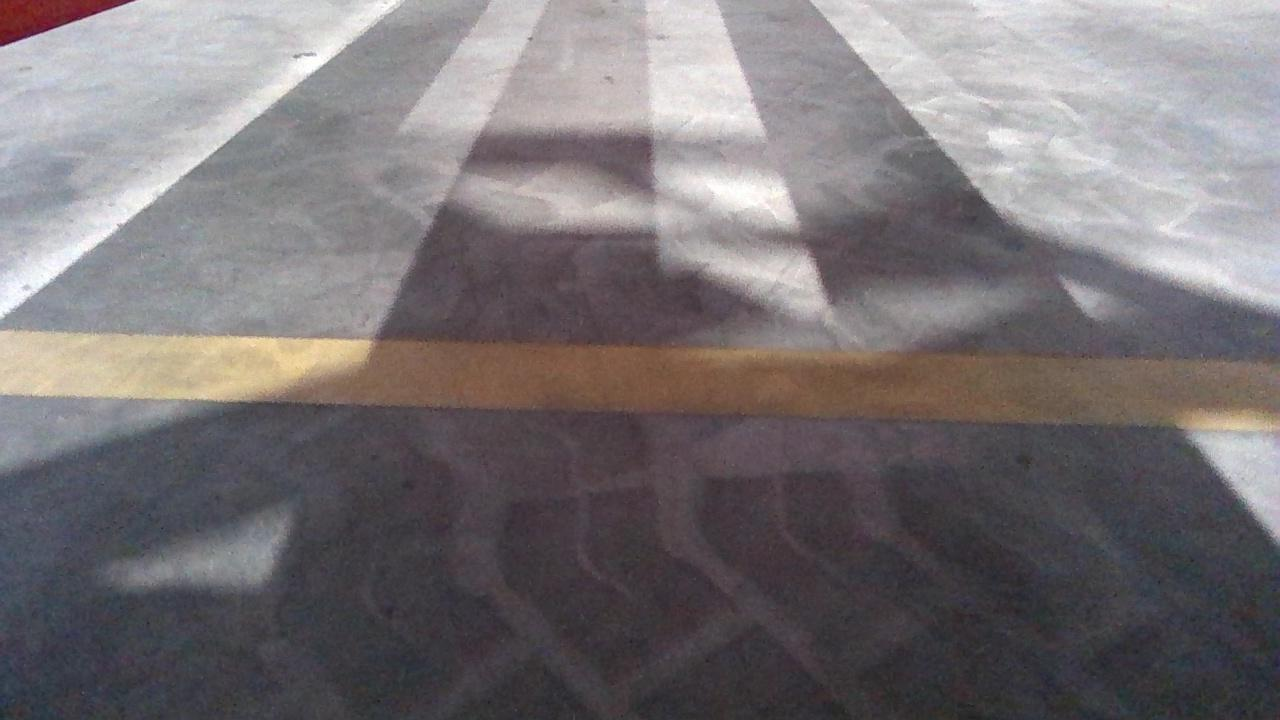yellow_line: (1, 331, 1279, 432)
